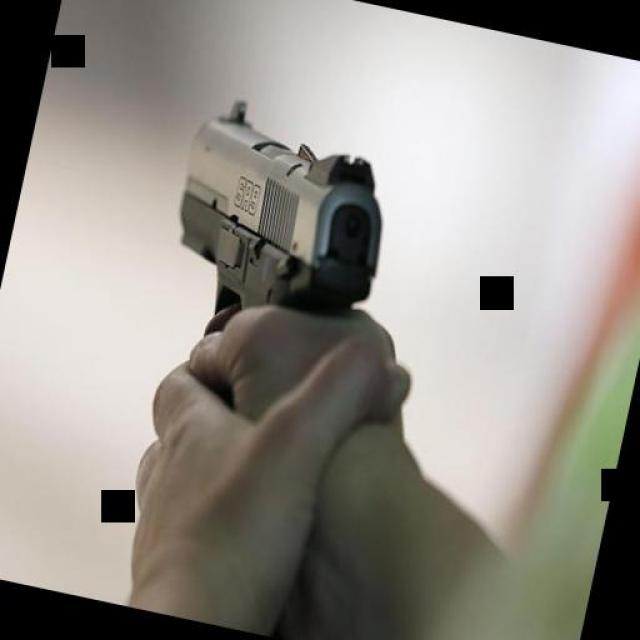gun: (120, 74, 412, 464)
